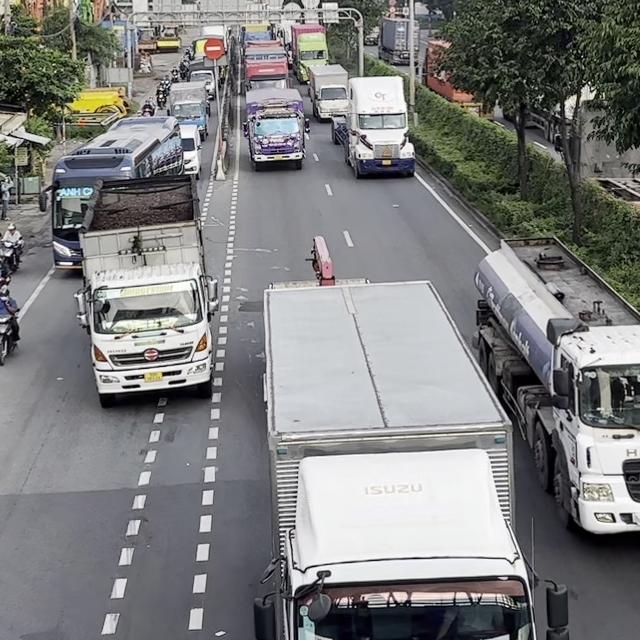bus: (45, 115, 185, 270)
motorcycle: (0, 299, 20, 365), (0, 237, 24, 271)
truck: (253, 277, 569, 639), (471, 235, 639, 536), (73, 174, 219, 407), (330, 75, 416, 178), (242, 87, 310, 171), (165, 81, 211, 140), (306, 63, 349, 122), (291, 24, 331, 84), (242, 45, 289, 91)
